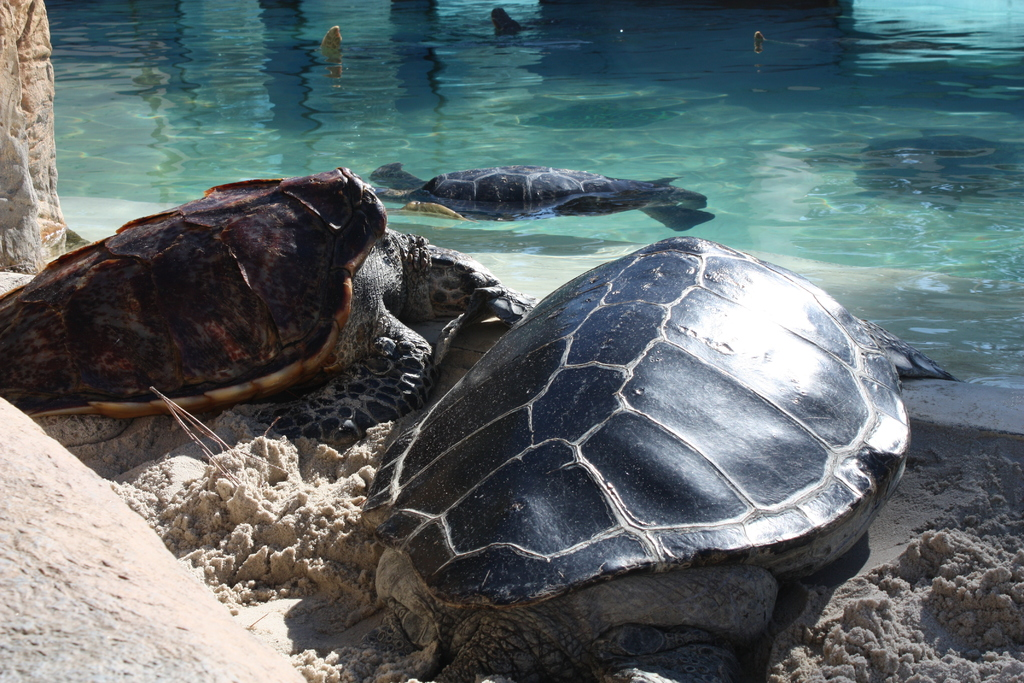Sea turtles: (363, 237, 963, 683), (0, 163, 532, 448), (368, 161, 722, 235)
